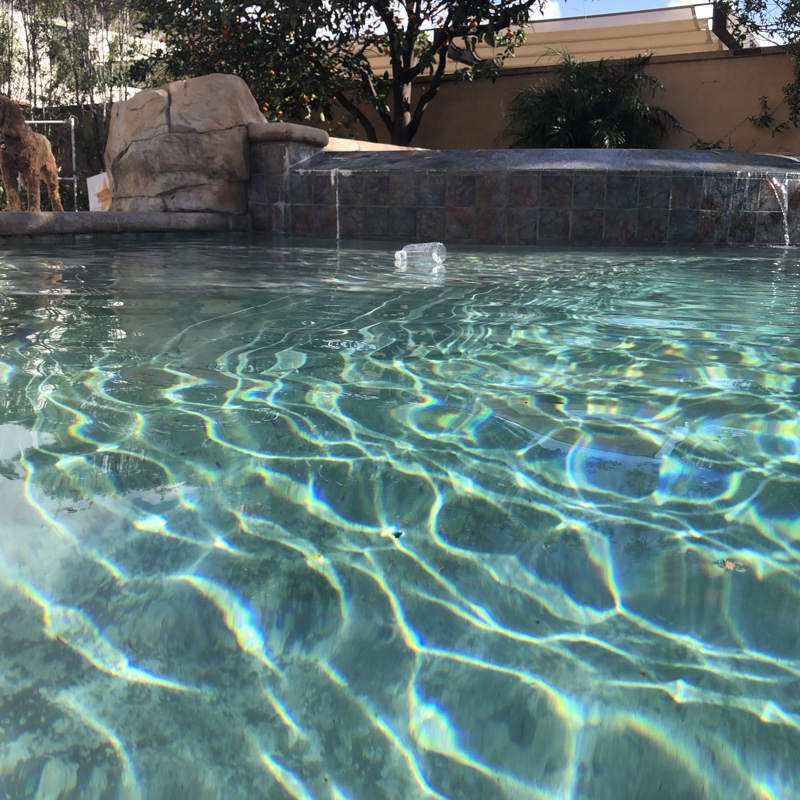Plastic Bottle: (392, 241, 443, 265)
